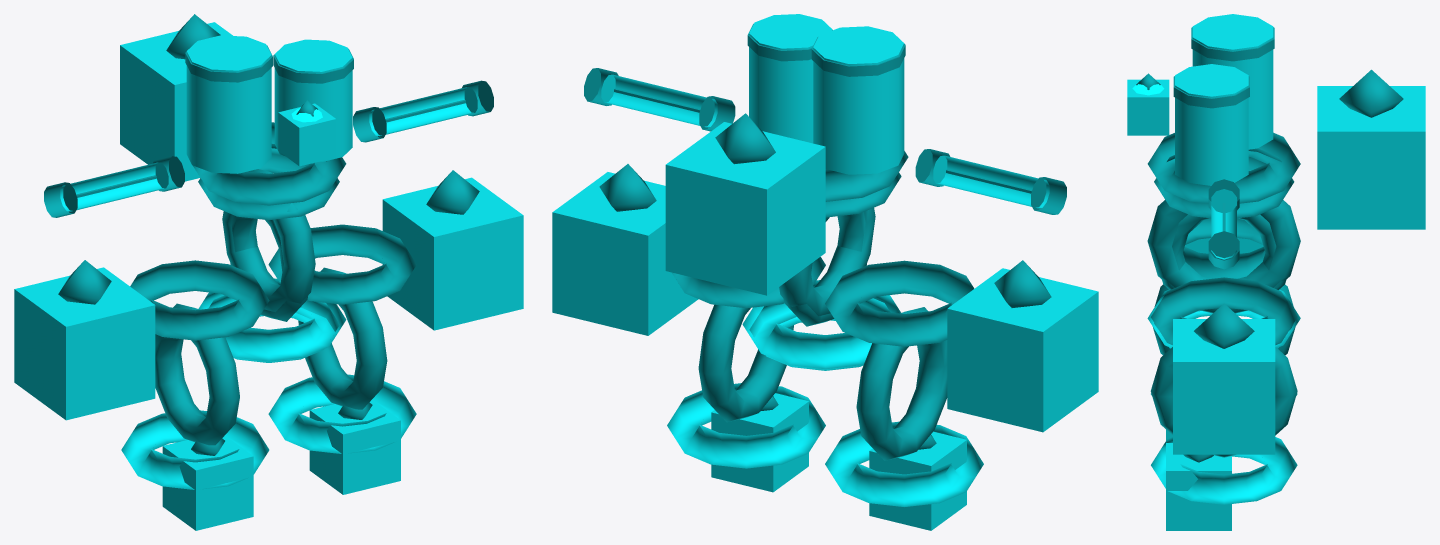
File: golem_061.glb
The picture shows the model from 3 angles, left to right: view 1: azimuth 30°, elevation 25°; view 2: azimuth 150°, elevation 25°; view 3: azimuth 270°, elevation 25°; orthographic projection. The views are drawn at different scales.
Visible parts, largest first — view 1: Body, Detail; view 2: Body, Detail; view 3: Body, Detail.
Boxes of the visible parts, <box> form: Body: <box>14,22,523,530</box>; Detail: <box>44,14,493,455</box>; Body: <box>552,14,1098,530</box>; Detail: <box>584,23,1066,460</box>; Body: <box>1127,14,1425,530</box>; Detail: <box>1136,27,1403,462</box>.
Bounding box in the file's own units: 1.4 × 1.28 × 0.8007.
